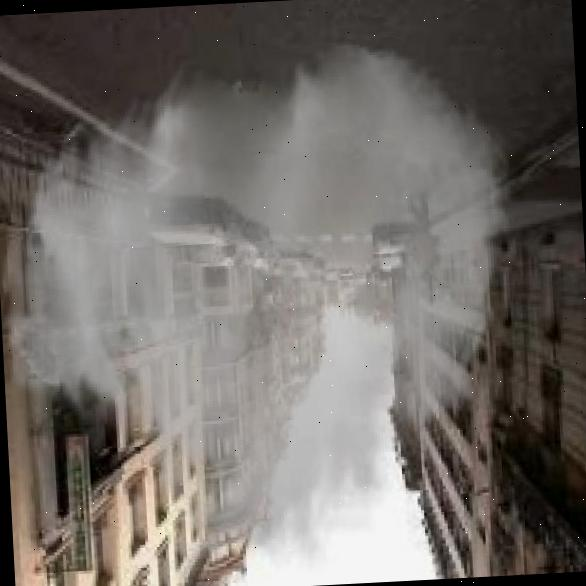smoke: (0, 30, 535, 586)
